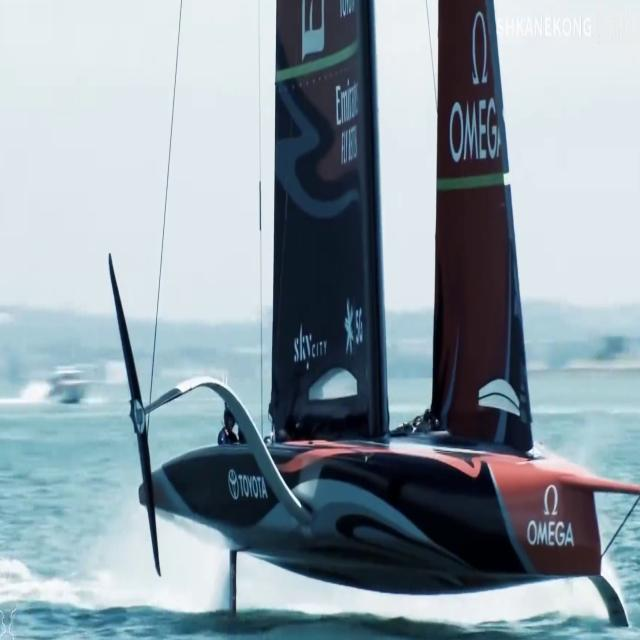sailboat: (100, 0, 636, 597)
